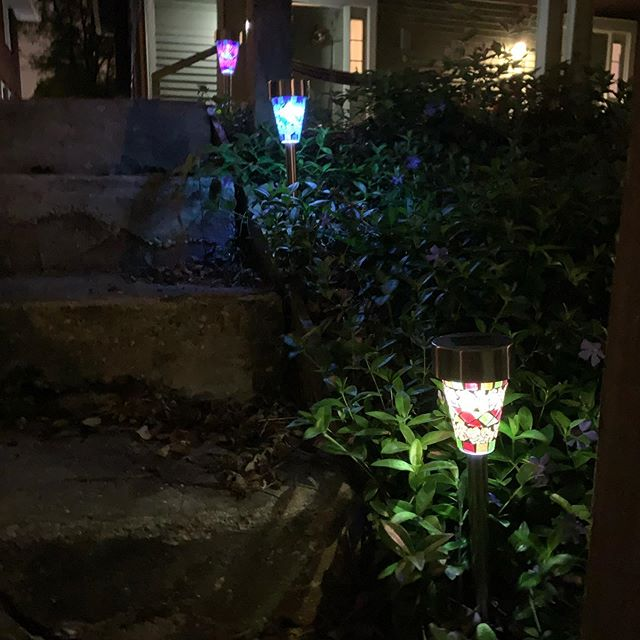building: (129, 1, 640, 88)
vegetation: (227, 77, 640, 640)
